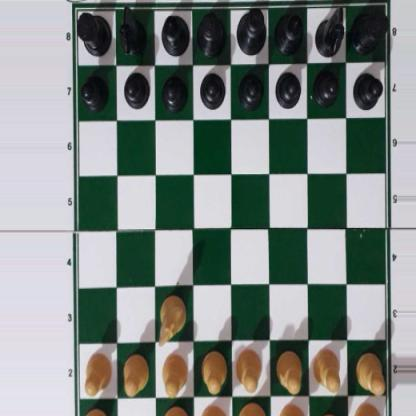black-bishop: (273, 8, 305, 53), (159, 11, 190, 54)
black-king: (234, 8, 266, 55)
black-knight: (315, 2, 342, 55), (119, 3, 145, 54)
black-pawn: (352, 69, 382, 110), (274, 68, 301, 108), (199, 68, 224, 109), (313, 65, 338, 105), (123, 69, 148, 109), (81, 72, 107, 109), (162, 71, 186, 110), (238, 70, 262, 109)
black-queen: (196, 9, 226, 54)
black-rook: (74, 8, 111, 55), (353, 1, 386, 53)
white-bishop: (277, 403, 306, 416), (162, 407, 190, 416)
white-king: (237, 402, 266, 416)
white-knight: (157, 292, 185, 343), (315, 410, 344, 416)
white-pawn: (312, 346, 342, 392), (83, 350, 112, 395), (234, 346, 262, 392), (356, 350, 385, 393), (200, 348, 226, 392), (276, 348, 302, 392), (161, 353, 187, 397), (122, 353, 148, 394)
white-queen: (198, 403, 227, 416)
white-rook: (354, 400, 389, 416), (77, 403, 109, 416)
